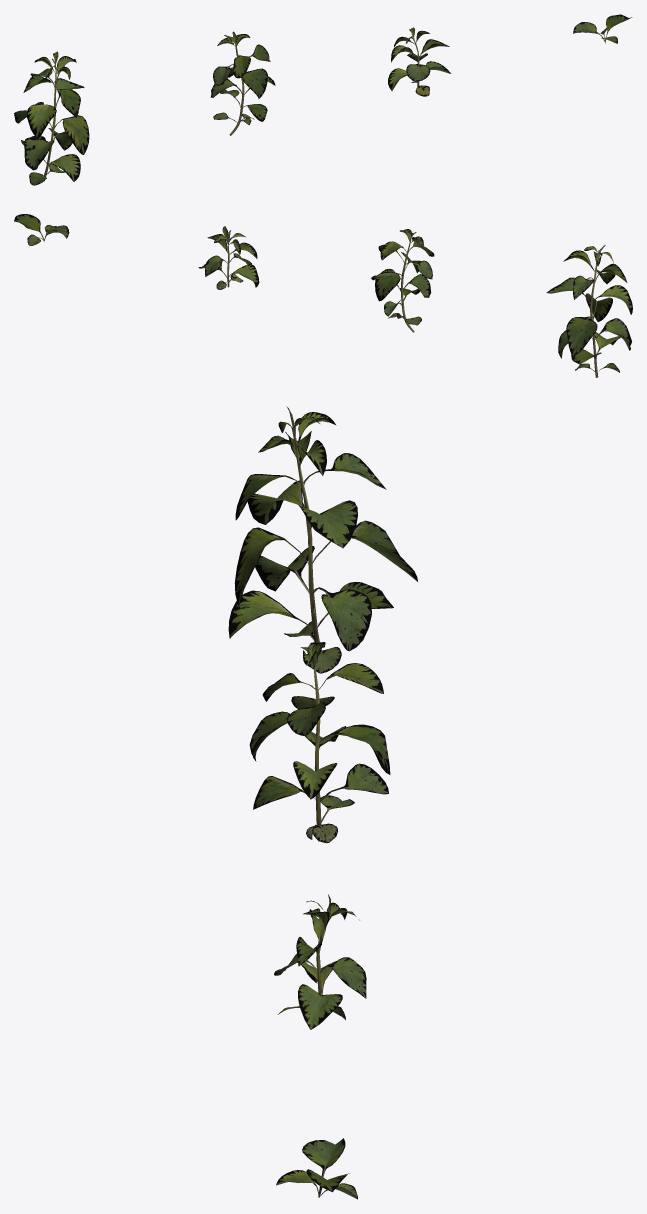
Rendered from nettle.glb.
3 views of the same model, one above another, from view 1: azimuth 30°, elevation 25°; view 2: azimuth 150°, elevation 25°; view 3: azimuth 270°, elevation 25° (orthographic). The views are drawn at different scales.
Visible parts, largest first — view 1: nettle_plant_medium_a_LOD0, nettle_plant_medium_b_LOD0, nettle_plant_small_a_LOD0, nettle_plant_small_b_LOD0; view 2: nettle_plant_medium_a_LOD0, nettle_plant_medium_b_LOD0, nettle_plant_small_a_LOD0, nettle_plant_small_b_LOD0; view 3: nettle_plant_medium_a_LOD0, nettle_plant_medium_b_LOD0, nettle_plant_small_a_LOD0, nettle_plant_small_b_LOD0.
Part boxes in pixels (box(x1,y1,x2,y2)): nettle_plant_medium_a_LOD0: box(14, 51, 89, 185); nettle_plant_medium_b_LOD0: box(210, 31, 275, 135); nettle_plant_small_a_LOD0: box(388, 27, 451, 96); nettle_plant_small_b_LOD0: box(573, 14, 632, 43); nettle_plant_medium_a_LOD0: box(546, 245, 632, 377); nettle_plant_medium_b_LOD0: box(371, 229, 434, 332); nettle_plant_small_a_LOD0: box(198, 226, 259, 289); nettle_plant_small_b_LOD0: box(14, 214, 69, 245); nettle_plant_medium_a_LOD0: box(228, 406, 417, 673); nettle_plant_medium_b_LOD0: box(249, 642, 390, 843); nettle_plant_small_a_LOD0: box(274, 894, 366, 1029); nettle_plant_small_b_LOD0: box(276, 1138, 357, 1199).
Bounding box in the file's own units: 0.6586 × 0.1314 × 0.0891.
Materials: 1 (1 with a texture image).
